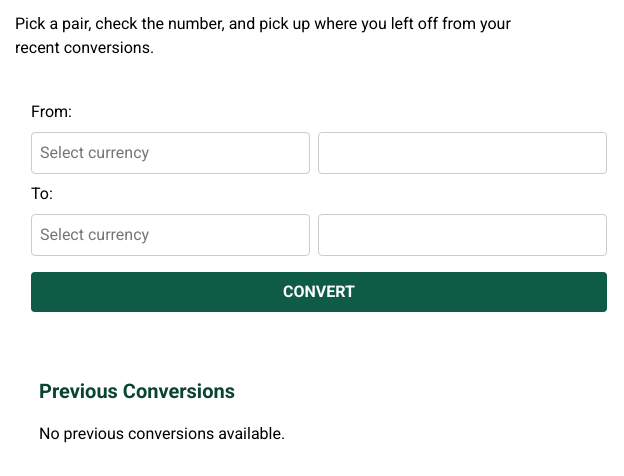
it: CurrencyConverter › converts the amount and adds it to previous conversions
The image size is (624, 476).
Step 1. Type "usd" into the dropdown labelled "From:" → (171, 153), box [31,132,310,174]
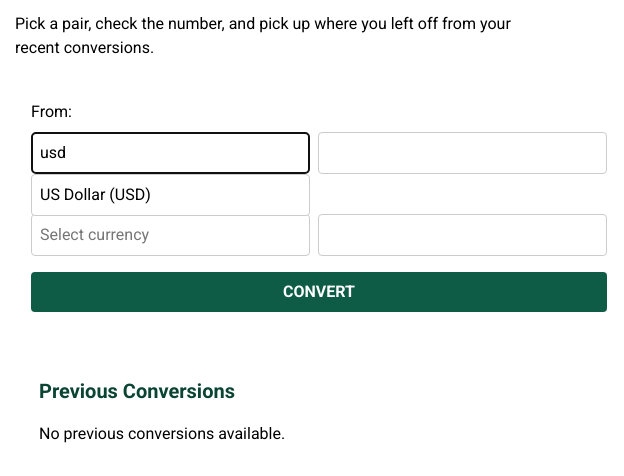
Step 2. Click the option "US Dollar (USD)" → (95, 194), box [40,185,151,204]
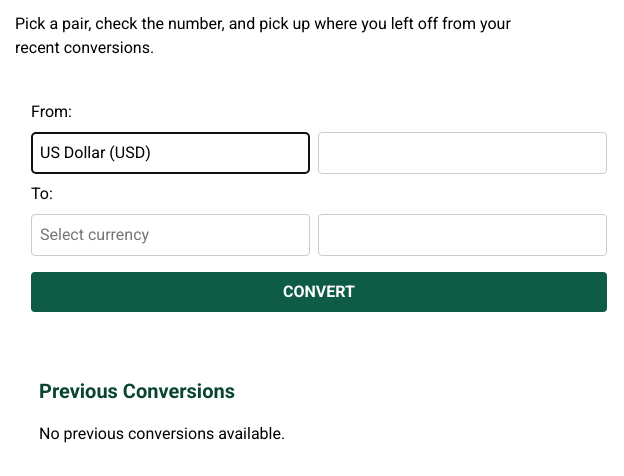
Step 3. Type "pound" into the dropdown labelled "To:" → (171, 235), box [31,214,310,256]
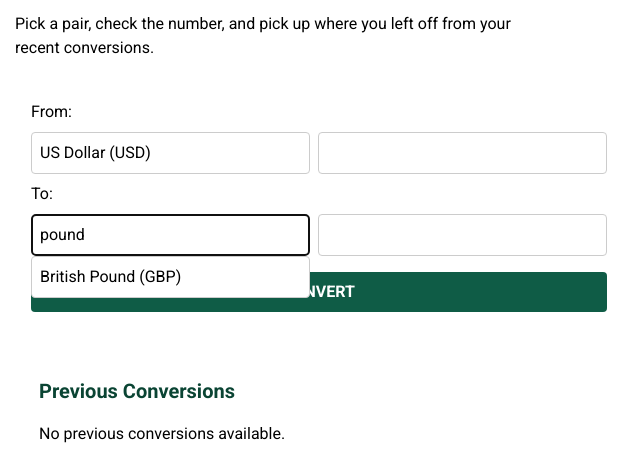
Step 4. Click the option "British Pound (GBP)" → (111, 276), box [40,267,181,286]
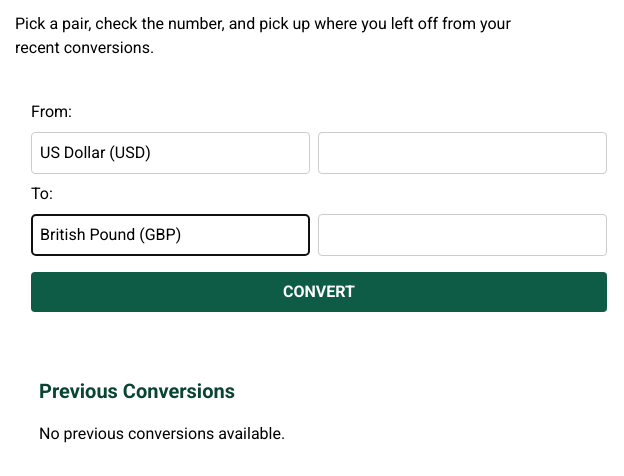
Step 5. Type "10" into the number field below "From:" → (463, 153), box [318,132,607,174]
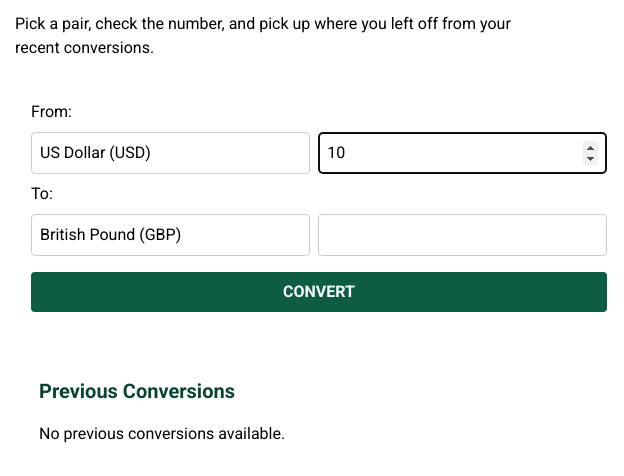
Step 6. Click the button "Convert" → (319, 292), box [31,272,607,312]
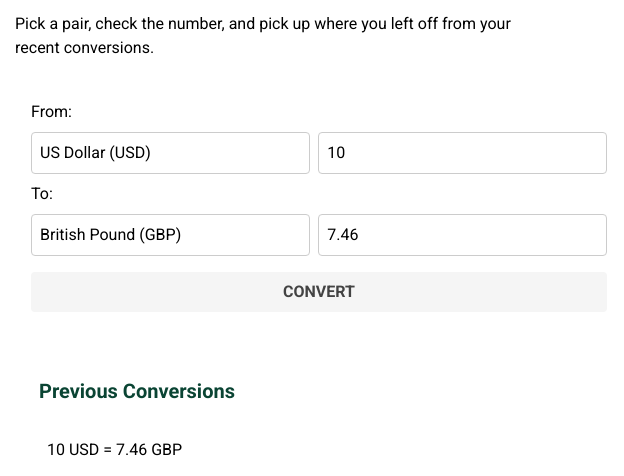
Result: the 2nd number field showing "7.46" is shown at [318,214,607,256]
Result: the list item reads "10 USD = 7.46 GBP" at [47,440,182,459]
